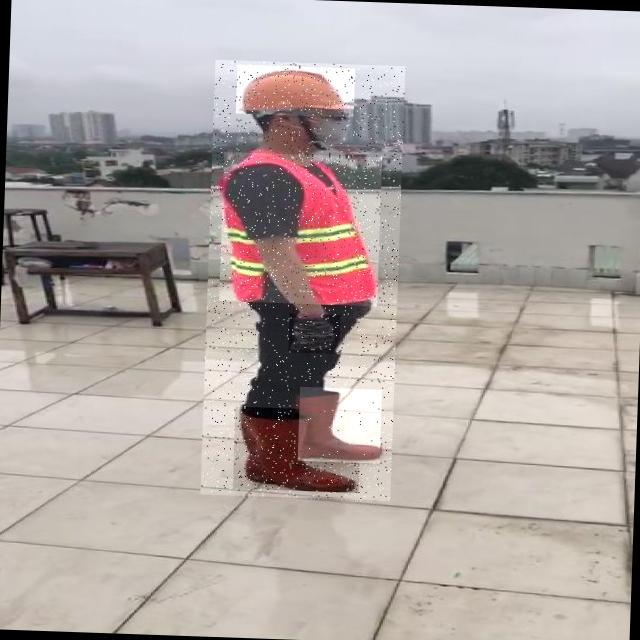Gloves: (289, 314, 342, 354)
Helmet: (235, 66, 355, 118)
Human: (200, 60, 405, 502)
Safety Boot: (232, 408, 361, 493), (298, 387, 382, 463)
Safety Vest: (219, 153, 382, 306)
